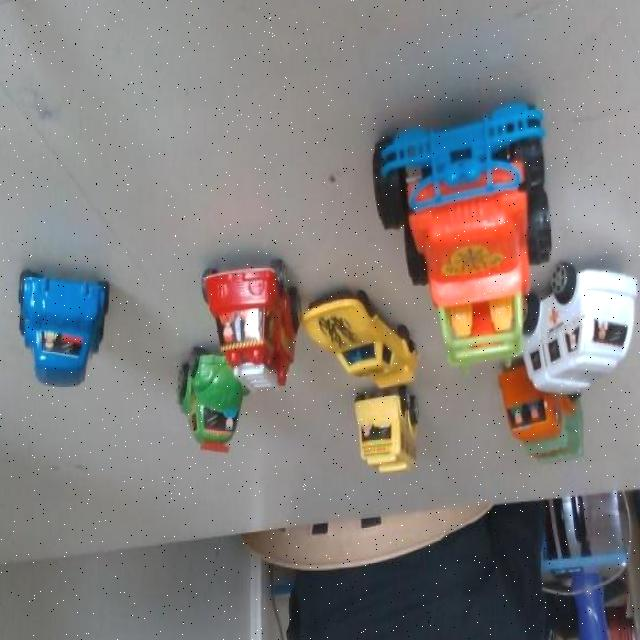car: (368, 85, 549, 310), (8, 255, 114, 395), (199, 248, 295, 392), (301, 279, 421, 394), (533, 268, 640, 383), (498, 368, 583, 469), (174, 350, 246, 449), (347, 388, 412, 484)
